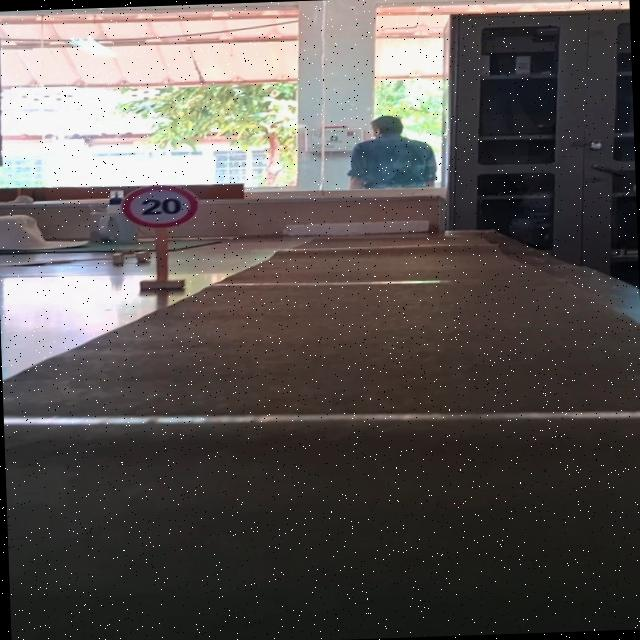Speed20: (114, 180, 205, 230)
